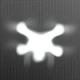plane: (9, 18, 79, 68)
